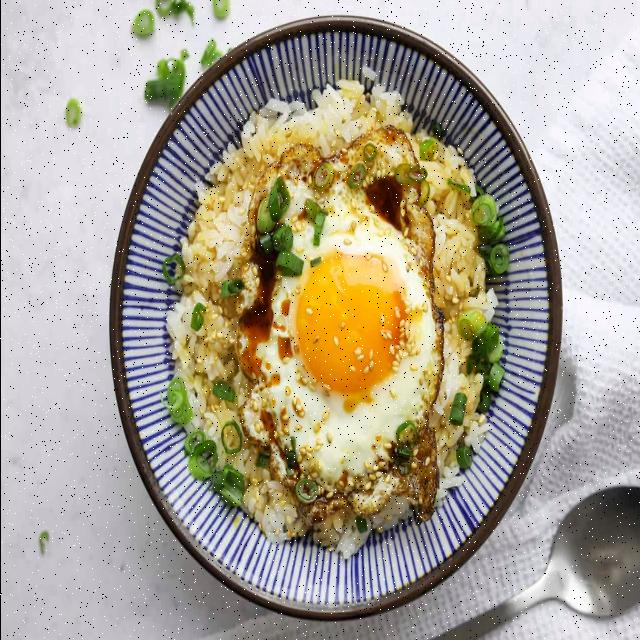Egg: (242, 125, 442, 524)
Rice: (166, 80, 410, 542), (413, 136, 496, 484)
